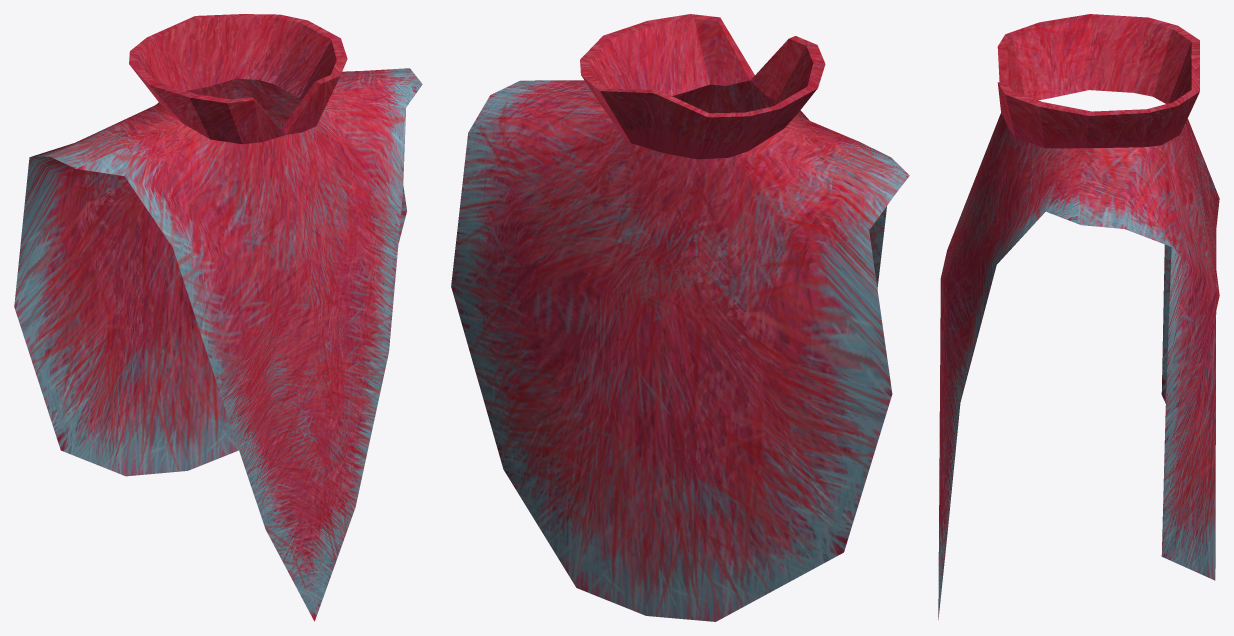
File: cloak 100.FBX
3 views of the same model, side by side, from view 1: azimuth 30°, elevation 25°; view 2: azimuth 150°, elevation 25°; view 3: azimuth 270°, elevation 25° (orthographic). The views are drawn at different scales.
Parts seen in each view (by area): view 1: Circle027; view 2: Circle027; view 3: Circle027.
Part boxes in pixels (bbox=[...]): Circle027: bbox=[14, 14, 422, 621]; Circle027: bbox=[451, 14, 909, 621]; Circle027: bbox=[938, 14, 1219, 619].
Bounding box in the file's own units: 43.62 × 54.99 × 24.74.
1 material, 1 textured.
